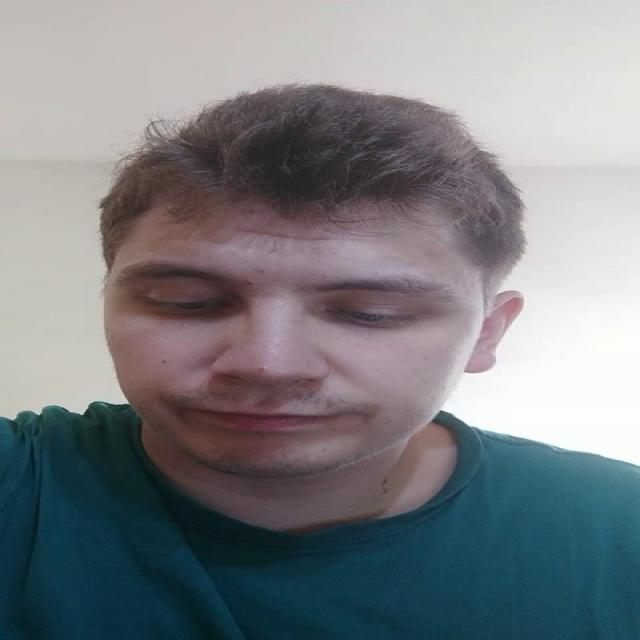Eyeclosed: (136, 290, 230, 322), (326, 300, 417, 330)
